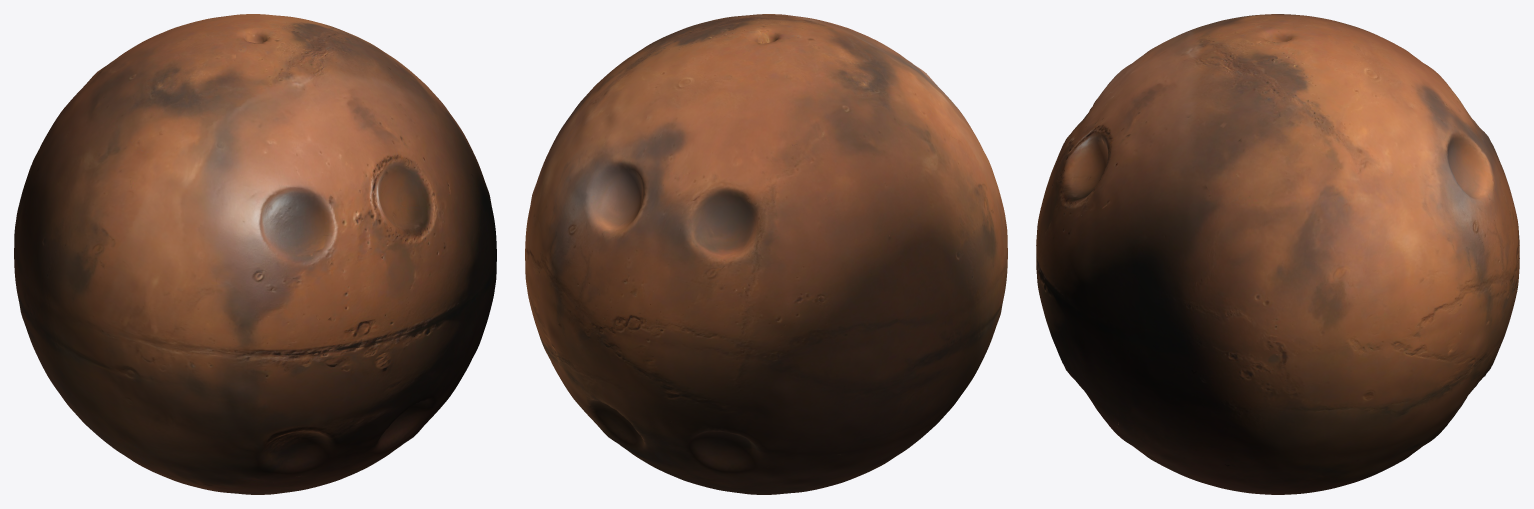
File: mars.glb
3 renders of one model, left to right at view 1: azimuth 30°, elevation 25°; view 2: azimuth 150°, elevation 25°; view 3: azimuth 270°, elevation 25°, orthographic.
Size of the model in its own units: 1.99 by 1.99 by 1.99.
1 material, 1 textured.
